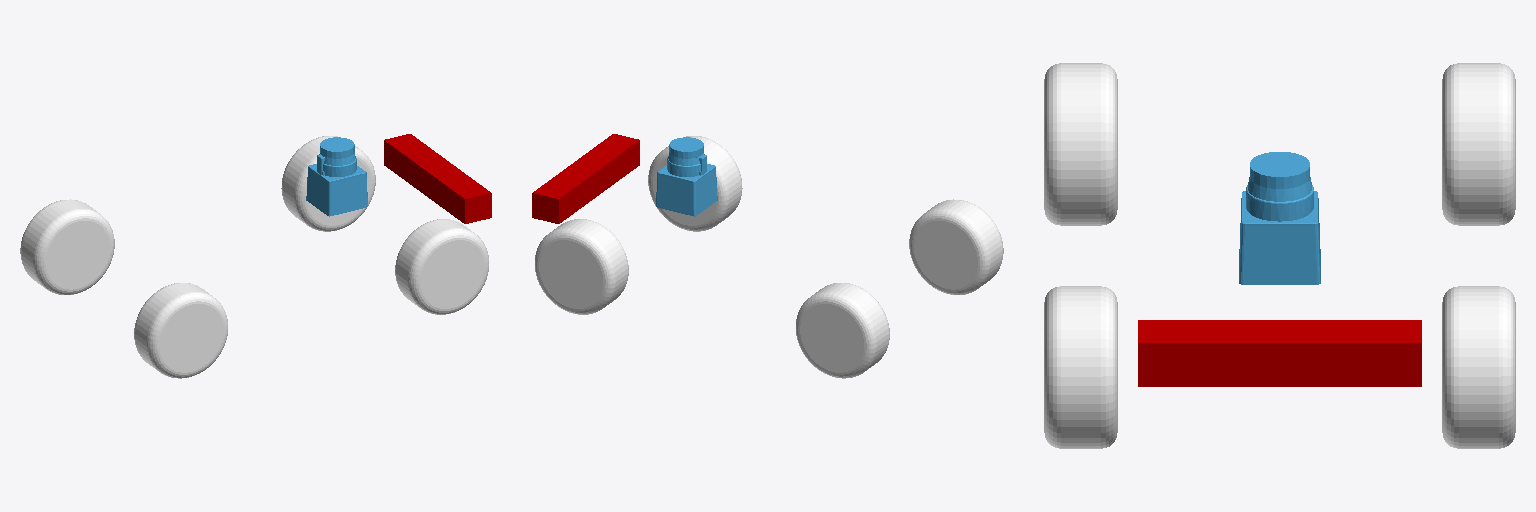
URDF robot description (racecar):
<?xml version="1.0" ?>
<!-- =================================================================================== -->
<!-- |    This document was autogenerated by xacro from racecar.xacro                  | -->
<!-- |    EDITING THIS FILE BY HAND IS NOT RECOMMENDED                                 | -->
<!-- =================================================================================== -->
<robot name="racecar" xmlns:xacro="http://www.ros.org/wiki/xacro">
  <!-- inertial parameter macros -->
  <!-- geometry macros -->
  <!-- transmission macros -->
  <!-- Add chassis and it's inertia link -->
  <link name="base_link">
   <inertial>
      <origin rpy="0 0 0" xyz="0 0 0"/>
      <mass value=".1"/>
      <inertia ixx="0.010609" ixy="0" ixz="0" iyy="0.050409" iyz="0" izz="0.05865"/>
    </inertial>
  </link>
  <link name="chassis">
   <inertial>
      <origin rpy="0 0 0" xyz="0 0 0"/>
      <mass value=".1"/>
      <inertia ixx="0.010609" ixy="0" ixz="0" iyy="0.050409" iyz="0" izz="0.05865"/>
    </inertial>
    <visual>
      <origin rpy="0 0 0" xyz="0 0 0"/>
      <geometry>
        <mesh filename="meshes/chassis.STL"/>
      </geometry>
      <material name="blue"/>
    </visual>
  </link>
  <joint name="base_link_joint" type="fixed">
    <origin rpy="0 0 0" xyz="0 0 0.05"/>
    <parent link="base_link"/>
    <child link="chassis"/>
  </joint>
  <link name="chassis_inertia">
    <inertial>
      <origin rpy="0 0 0" xyz="0.1477 0 0"/>
      <mass value="4.0"/>
      <inertia ixx="0.010609" ixy="0" ixz="0" iyy="0.050409" iyz="0" izz="0.05865"/>
    </inertial>
  </link>
  <joint name="chassis_inertia_joint" type="fixed">
    <origin rpy="0 0 0" xyz="0 0 0"/>
    <parent link="chassis"/>
    <child link="chassis_inertia"/>
  </joint>
  <!-- Add the left rear wheel with its joints and tranmissions -->
  <link name="left_rear_wheel">
    <inertial>
      <origin rpy="0 0 0" xyz="0 0 -0.0225"/>
      <mass value="0.34055"/>
      <inertia ixx="0.00026046" ixy="0" ixz="0" iyy="0.00026046" iyz="0" izz="0.00041226"/>
    </inertial>
    <visual>
      <origin rpy="0 0 0" xyz="0 0 0"/>
      <geometry>
        <mesh filename="meshes/left_rear_wheel.obj"/>
      </geometry>
      <material name="white"/>
    </visual>
    <collision>
      robot
      
      <origin rpy="0 0 0" xyz="0 0 -0.0225"/>
      <geometry>
        <cylinder length="0.045" radius="0.05"/>
      </geometry>
    </collision>
  </link>
  <joint name="left_rear_wheel_joint" type="continuous">
    <origin rpy="1.5708 0 0" xyz="0 0.1 0"/>
    <parent link="chassis"/>
    <child link="left_rear_wheel"/>
    <axis xyz="0 0 -1"/>
    <limit effort="10" velocity="100"/>
  </joint>
  <transmission name="left_rear_wheel_transmission" type="SimpleTransmission">
    <type>transmission_interface/SimpleTransmission</type>
    <joint name="left_rear_wheel_joint">
      <hardwareInterface>EffortJointInterface</hardwareInterface>
    </joint>
    <actuator name="left_rear_wheel_motor">
      <hardwareInterface>EffortJointInterface</hardwareInterface>
      <mechanicalReduction>1</mechanicalReduction>
    </actuator>
  </transmission>
  <!-- Add the right rear wheel with its joints and tranmissions -->
  <link name="right_rear_wheel">
    <inertial>
      <origin rpy="0 0 0" xyz="0 0 0.0225"/>
      <mass value="0.34055"/>
      <inertia ixx="0.00026046" ixy="0" ixz="0" iyy="0.00026046" iyz="0" izz="0.00041226"/>
    </inertial>
    <visual>
      <origin rpy="0 0 0" xyz="0 0 0"/>
      <geometry>
        <mesh filename="meshes/right_rear_wheel.obj"/>
      </geometry>
      <material name="white"/>
    </visual>
    <collision>
      <origin rpy="0 0 0" xyz="0 0 0.0225"/>
      <geometry>
        <cylinder length="0.045" radius="0.05"/>
      </geometry>
    </collision>
  </link>
  <joint name="right_rear_wheel_joint" type="continuous">
    <origin rpy="1.5708 0 0" xyz="0 -0.1 0"/>
    <parent link="chassis"/>
    <child link="right_rear_wheel"/>
    <axis xyz="0 0 -1"/>
    <limit effort="10" velocity="100"/>
  </joint>
  <transmission name="right_rear_wheel_transmission" type="SimpleTransmission">
    <type>transmission_interface/SimpleTransmission</type>
    <joint name="right_rear_wheel_joint">
      <hardwareInterface>EffortJointInterface</hardwareInterface>
    </joint>
    <actuator name="right_rear_wheel_motor">
      <hardwareInterface>EffortJointInterface</hardwareInterface>
      <mechanicalReduction>1</mechanicalReduction>
    </actuator>
  </transmission>
  <!-- Add the left steering hinge with its joints and tranmissions -->
  <link name="left_steering_hinge">
    <inertial>
      <origin rpy="0 0 0" xyz="0 0 0"/>
      <mass value="0.100"/>
      <inertia ixx="4E-06" ixy="0" ixz="0" iyy="4E-06" iyz="0" izz="4E-06"/>
    </inertial>
    <visual>
      <origin rpy="0 0 0" xyz="0 0 0"/>
      <geometry>
        <mesh filename="meshes/left_steering_hinge.STL"/>
      </geometry>
      <material name="grey"/>
    </visual>
  </link>
  <joint name="left_steering_hinge_joint" type="revolute">
    <origin rpy="0 1.5708 0" xyz="0.325 0.1 0"/>
    <parent link="chassis"/>
    <child link="left_steering_hinge"/>
    <axis xyz="-1 0 0"/>
    <limit effort="10" lower="-1.0" upper="1.0" velocity="100"/>
  </joint>
  <transmission name="left_steering_hinge_transmission" type="SimpleTransmission">
    <type>transmission_interface/SimpleTransmission</type>
    <joint name="left_steering_hinge_joint">
      <hardwareInterface>EffortJointInterface</hardwareInterface>
    </joint>
    <actuator name="left_steering_hinge_motor">
      <hardwareInterface>EffortJointInterface</hardwareInterface>
      <mechanicalReduction>1</mechanicalReduction>
    </actuator>
  </transmission>
  <!-- Add the right steering hinge with its joints and tranmissions -->
  <link name="right_steering_hinge">
    <inertial>
      <origin rpy="0 0 0" xyz="0 0 0"/>
      <mass value="0.100"/>
      <inertia ixx="4E-06" ixy="0" ixz="0" iyy="4E-06" iyz="0" izz="4E-06"/>
    </inertial>
    <visual>
      <origin rpy="0 0 0" xyz="0 0 0"/>
      <geometry>
        <mesh filename="meshes/right_steering_hinge.STL"/>
      </geometry>
      <material name="grey"/>
    </visual>
  </link>
  <joint name="right_steering_hinge_joint" type="continuous">
    <origin rpy="0 1.5708 0" xyz="0.325 -0.1 0"/>
    <parent link="chassis"/>
    <child link="right_steering_hinge"/>
    <axis xyz="-1 0 0"/>
    <limit effort="10" lower="-1.0" upper="1.0" velocity="100"/>
  </joint>
  <transmission name="right_steering_hinge_transmission" type="SimpleTransmission">
    <type>transmission_interface/SimpleTransmission</type>
    <joint name="right_steering_hinge_joint">
      <hardwareInterface>EffortJointInterface</hardwareInterface>
    </joint>
    <actuator name="right_steering_hinge_motor">
      <hardwareInterface>EffortJointInterface</hardwareInterface>
      <mechanicalReduction>1</mechanicalReduction>
    </actuator>
  </transmission>
  <!-- Add the left front wheel with its joints and tranmissions -->
  <link name="left_front_wheel">
    <inertial>
      <origin rpy="0 0 0" xyz="0 0 -0.0225"/>
      <mass value="0.34055"/>
      <inertia ixx="0.00026046" ixy="0" ixz="0" iyy="0.00026046" iyz="0" izz="0.00041226"/>
    </inertial>
    <visual>
      <origin rpy="0 0 0" xyz="0 0 0"/>
      <geometry>
        <mesh filename="meshes/left_front_wheel.obj"/>
      </geometry>
      <material name="white"/>
    </visual>
    <collision>
      <origin rpy="0 0 0" xyz="0 0 -0.0225"/>
      <geometry>
        <cylinder length="0.045" radius="0.05"/>
      </geometry>
    </collision>
  </link>
  <joint name="left_front_wheel_joint" type="continuous">
    <origin rpy="1.5708 0 0" xyz="0 0 0"/>
    <parent link="left_steering_hinge"/>
    <child link="left_front_wheel"/>
    <axis xyz="0 0 -1"/>
    <limit effort="10" velocity="100"/>
  </joint>
  <transmission name="left_front_wheel_transmission" type="SimpleTransmission">
    <type>transmission_interface/SimpleTransmission</type>
    <joint name="left_front_wheel_joint">
      <hardwareInterface>EffortJointInterface</hardwareInterface>
    </joint>
    <actuator name="left_front_wheel_motor">
      <hardwareInterface>EffortJointInterface</hardwareInterface>
      <mechanicalReduction>1</mechanicalReduction>
    </actuator>
  </transmission>
  <!-- Add the left front wheel with its joints and tranmissions -->
  <link name="right_front_wheel">
    <inertial>
      <origin rpy="0 0 0" xyz="0 0 0.0225"/>
      <mass value="0.34055"/>
      <inertia ixx="0.00026046" ixy="0" ixz="0" iyy="0.00026046" iyz="0" izz="0.00041226"/>
    </inertial>
    <visual>
      <origin rpy="0 0 0" xyz="0 0 0"/>
      <geometry>
        <mesh filename="meshes/right_front_wheel.obj"/>
      </geometry>
      <material name="white"/>
    </visual>
    <collision>
      <origin rpy="0 0 0" xyz="0 0 0.0225"/>
      <geometry>
        <cylinder length="0.045" radius="0.05"/>
      </geometry>
    </collision>
  </link>
  <joint name="right_front_wheel_joint" type="continuous">
    <origin rpy="1.5708 0 0" xyz="0 0 0"/>
    <parent link="right_steering_hinge"/>
    <child link="right_front_wheel"/>
    <axis xyz="0 0 -1"/>
    <limit effort="10" velocity="100"/>
  </joint>
  <transmission name="right_front_wheel_transmission" type="SimpleTransmission">
    <type>transmission_interface/SimpleTransmission</type>
    <joint name="right_front_wheel_joint">
      <hardwareInterface>EffortJointInterface</hardwareInterface>
    </joint>
    <actuator name="right_front_wheel_motor">
      <hardwareInterface>EffortJointInterface</hardwareInterface>
      <mechanicalReduction>1</mechanicalReduction>
    </actuator>
  </transmission>
  <!-- Add Hokuyo laser scanner -->
  <link name="laser">
    <inertial>
      <origin rpy="0 0 0" xyz="0 0 0"/>
      <mass value="0.130"/>
      <inertia ixx="4E-06" ixy="0" ixz="0" iyy="4E-06" iyz="0" izz="4E-06"/>
    </inertial>
    <collision>
      <origin rpy="0 0 0" xyz="0 0 0"/>
      <geometry>
        <box size="0.1 0.1 0.1"/>
      </geometry>
    </collision>
    <visual>
      <origin rpy="0 0 0" xyz="0 0 0"/>
      <geometry>
        <mesh filename="meshes/hokuyo.obj"/>
        <material name="grey"/>
      </geometry>
    </visual>
  </link>
  <joint name="hokuyo_joint" type="fixed">
    <origin rpy="0 0 0" xyz="0.265 0.0 0.075"/>
    <parent link="chassis"/>
    <child link="laser"/>
    <axis xyz="0 0 1"/>
  </joint>
  <!-- zed camera -->
  <link name="zed_camera_link">
    <inertial>
      <mass value="1e-5"/>
      <origin rpy="0 0 0" xyz="0 0 0"/>
      <inertia ixx="1e-6" ixy="0" ixz="0" iyy="1e-6" iyz="0" izz="1e-6"/>
    </inertial>
    <collision>
      <origin rpy="0 0 0" xyz="0 0 0"/>
      <geometry>
        <box size="0.033 0.175 0.030"/>
      </geometry>
    </collision>
    <visual>
      <origin rpy="0 0 0" xyz="0 0 0"/>
      <geometry>
        <box size="0.033 0.175 0.030"/>
      </geometry>
      <material name="red"/>
    </visual>
  </link>
  <joint name="zed_camera_joint" type="fixed">
    <origin rpy="0 0 0" xyz="0.390 0 0.04"/>
    <parent link="chassis"/>
    <child link="zed_camera_link"/>
    <axis xyz="0 0 1"/>
    <!-- <limit lower="0.0" upper="0.0" effort="0.0" velocity="0.0" /> -->
  </joint>
  <!-- zed camera lenses -->
  <!-- It seems these have to have a non-zero mass to have a camera attached? -->
  <link name="camera_link">
    <!-- this needs to match the name in zed_wrapper/zed_tf.launch -->
    <inertial>
      <mass value="1e-5"/>
      <origin rpy="0 0 0" xyz="0 0 0"/>
      <inertia ixx="1e-6" ixy="0" ixz="0" iyy="1e-6" iyz="0" izz="1e-6"/>
    </inertial>
  </link>
  <link name="zed_camera_right_link">
    <inertial>
      <mass value="1e-5"/>
      <origin rpy="0 0 0" xyz="0 0 0"/>
      <inertia ixx="1e-6" ixy="0" ixz="0" iyy="1e-6" iyz="0" izz="1e-6"/>
    </inertial>
  </link>
  <joint name="zed_camera_left_joint" type="fixed">
    <origin rpy="0 0 0" xyz="0 0.06 0"/>
    <parent link="zed_camera_link"/>
    <child link="camera_link"/>
    <axis xyz="0 0 1"/>
  </joint>
  <joint name="zed_camera_right_joint" type="fixed">
    <origin rpy="0 0 0" xyz="0 -0.06 0"/>
    <parent link="zed_camera_link"/>
    <child link="zed_camera_right_link"/>
    <axis xyz="0 0 1"/>
  </joint>
  <!-- Add the remaining xacros -->
  <!-- Gazebo references -->
  <gazebo reference="chassis">
    <mu1 value="0.0"/>
    <mu2 value="0.0"/>
    <kp value="10000000.0"/>
    <kd value="1.0"/>
    <material>Gazebo/Blue</material>
  </gazebo>
  <gazebo reference="left_rear_wheel">
    <mu1 value="1.0"/>
    <mu2 value="1.0"/>
    <kp value="10000000.0"/>
    <kd value="1.0"/>
    <fdir1 value="1 0 0"/>
    <material>Gazebo/Black</material>
  </gazebo>
  <gazebo reference="right_rear_wheel">
    <mu1 value="1.0"/>
    <mu2 value="1.0"/>
    <kp value="10000000.0"/>
    <kd value="1.0"/>
    <fdir1 value="1 0 0"/>
    <material>Gazebo/Black</material>
  </gazebo>
  <gazebo reference="left_front_wheel">
    <mu1 value="1.0"/>
    <mu2 value="1.0"/>
    <kp value="10000000.0"/>
    <kd value="1.0"/>
    <fdir1 value="0 0 1"/>
    <material>Gazebo/Black</material>
  </gazebo>
  <gazebo reference="right_front_wheel">
    <mu1 value="1.0"/>
    <mu2 value="1.0"/>
    <kp value="10000000.0"/>
    <kd value="1.0"/>
    <fdir1 value="0 0 1"/>
    <material>Gazebo/Black</material>
  </gazebo>
  <!-- Gazebo plugins -->
  <gazebo>
    <plugin filename="libgazebo_ros_control.so" name="gazebo_ros_control">
      <robotNamespace>/racecar</robotNamespace>
      <robotSimType>gazebo_ros_control/DefaultRobotHWSim</robotSimType>
    </plugin>
  </gazebo>
  <gazebo reference="laser">
    <material>Gazebo/Grey</material>
    <sensor name="hokuyo_sensor" type="ray">
      <pose>0 0 0.0124 0 0 0</pose>
      <visualize>true</visualize>
      <update_rate>40</update_rate>
      <ray>
        <scan>
          <horizontal>
            <samples>1081</samples>
            <resolution>1</resolution>
            <min_angle>-2.3561944902</min_angle>
            <max_angle>2.3561944902</max_angle>
          </horizontal>
        </scan>
        <range>
          <min>0.1</min>
          <max>10.0</max>
          <resolution>0.01</resolution>
        </range>
        <noise>
          <mean>0.0</mean>
          <stddev>0.01</stddev>
        </noise>
      </ray>
      <plugin filename="libgazebo_ros_laser.so" name="gazebo_ros_hokuyo_controller">
        <topicName>/scan</topicName>
        <frameName>laser</frameName>
      </plugin>
    </sensor>
  </gazebo>
  <gazebo reference="camera_link">
    <sensor name="zed_camera_left_sensor" type="camera">
      <update_rate>30.0</update_rate>
      <!-- math.atan(320 / 687.8065795898438) * 2 -->
      <camera name="zed_camera_left_camera">
        <horizontal_fov>0.8709216071359963</horizontal_fov>
        <image>
          <width>640</width>
          <height>480</height>
          <format>B8G8R8</format>
        </image>
        <clip>
          <near>0.02</near>
          <far>300</far>
        </clip>
        <noise>
          <type>gaussian</type>
          <mean>0.0</mean>
          <stddev>0.007</stddev>
        </noise>
      </camera>
      <plugin filename="libgazebo_ros_camera.so" name="camera_controller">
        <alwaysOn>true</alwaysOn>
        <updateRate>30.0</updateRate>
        <cameraName>/camera/zed</cameraName>
        <imageTopicName>rgb/image_rect_color</imageTopicName>
        <cameraInfoTopicName>rgb/camera_info</cameraInfoTopicName>
        <frameName>camera_link</frameName>
        <hackBaseline>0</hackBaseline>
        <!-- set this to 0.12 for the second camera -->
        <distortionK1>0.0</distortionK1>
        <distortionK2>0.0</distortionK2>
        <distortionK3>0.0</distortionK3>
        <distortionT1>0.0</distortionT1>
        <distortionT2>0.0</distortionT2>
      </plugin>
    </sensor>
  </gazebo>
  <material name="white">
    <color rgba="1. 1. 1. 1.0"/>
  </material>
  <material name="black">
    <color rgba="0. 0. 0. 1.0"/>
  </material>
  <material name="blue">
    <color rgba="0.0 0.0 0.8 1.0"/>
  </material>
  <material name="green">
    <color rgba="0.0 0.8 0.0 1.0"/>
  </material>
  <material name="grey">
    <color rgba="0.2 0.2 0.2 1.0"/>
  </material>
  <material name="orange">
    <color rgba="1.0 0.423529411765 0.0392156862745 1.0"/>
  </material>
  <material name="brown">
    <color rgba="0.870588235294 0.811764705882 0.764705882353 1.0"/>
  </material>
  <material name="red">
    <color rgba="0.8 0.0 0.0 1.0"/>
  </material>
</robot>

--- What the picture shows (computed from the rendered views, not written in the file) ---
3 views of the same robot in one strip: view 1: azimuth 30°, elevation 25°; view 2: azimuth 150°, elevation 25°; view 3: azimuth 270°, elevation 25° (orthographic).
Robot: racecar — 13 links, 12 joints (1 revolute, 5 continuous, 6 fixed); root link base_link; default pose: every joint at zero.
Visible links, largest first — view 1: right_rear_wheel, left_rear_wheel, right_front_wheel, zed_camera_link, laser, left_front_wheel; view 2: left_rear_wheel, right_rear_wheel, left_front_wheel, zed_camera_link, laser, right_front_wheel; view 3: zed_camera_link, left_rear_wheel, right_rear_wheel, left_front_wheel, right_front_wheel, laser.
Boxes of the visible links, box(x1,y1,x2,y2) form: right_rear_wheel: box(134, 283, 227, 378); left_rear_wheel: box(20, 199, 114, 294); right_front_wheel: box(395, 219, 488, 314); zed_camera_link: box(384, 134, 491, 223); laser: box(306, 137, 367, 216); left_front_wheel: box(281, 136, 375, 231); left_rear_wheel: box(796, 283, 889, 378); right_rear_wheel: box(909, 199, 1003, 294); left_front_wheel: box(535, 219, 628, 314); zed_camera_link: box(532, 134, 639, 223); laser: box(656, 137, 717, 216); right_front_wheel: box(648, 136, 742, 231); zed_camera_link: box(1138, 320, 1421, 386); left_rear_wheel: box(1442, 63, 1515, 225); right_rear_wheel: box(1044, 63, 1117, 225); left_front_wheel: box(1442, 286, 1515, 448); right_front_wheel: box(1044, 286, 1117, 448); laser: box(1239, 152, 1320, 284).
Bounding box of the posed robot: 0.4564 × 0.29 × 0.1601 m (x, y, z).
5 mesh visuals loaded from 8 distinct referenced files (5 OBJ); not drawn: 3 (reference not matched to a file when rendering).
